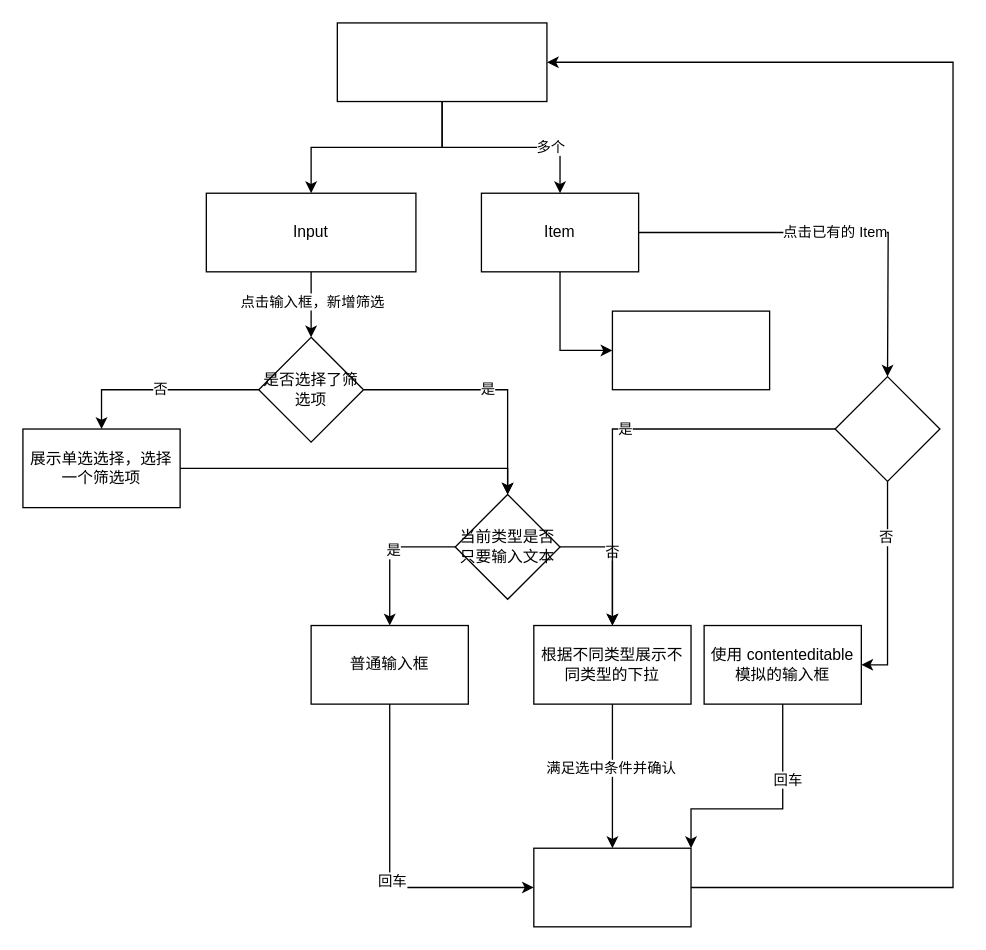
This 986x950 diagram has some shape labels left out. The box of each missing label's shape, as (x1, y1, x2, y2) in pixels:
searchbox: (336, 22, 547, 102)
判断类型是否为文本: (834, 375, 940, 481)
根据类型展示值: (611, 310, 770, 390)
添加/替换一个 Item: (533, 847, 691, 927)
